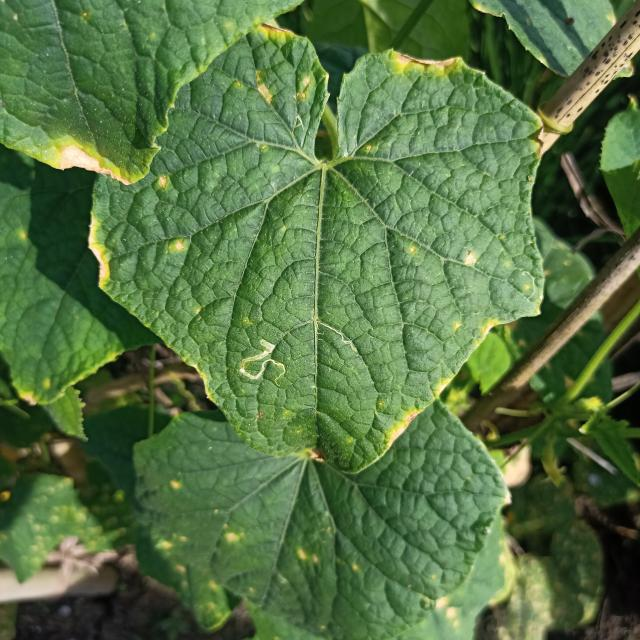disease_cucumber: (254, 67, 323, 108), (451, 315, 504, 345), (461, 248, 480, 268), (168, 238, 190, 253), (156, 173, 171, 190)
